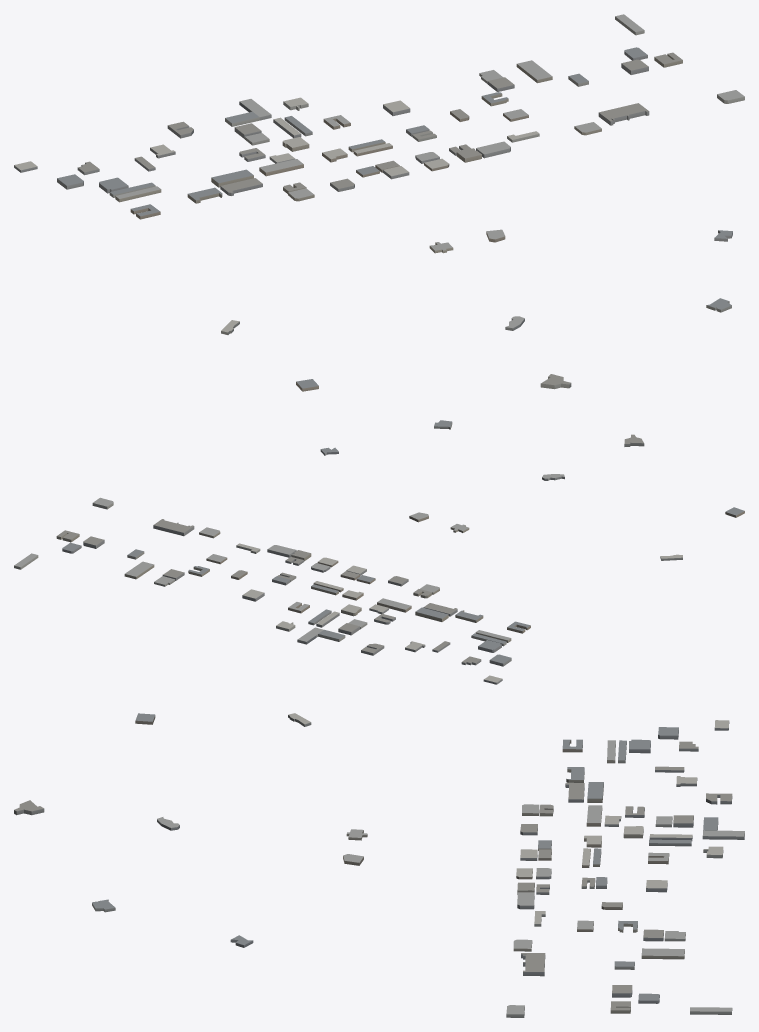
File: bld_16_7.fbx
3 renders of one model, top to bottom at view 1: azimuth 30°, elevation 25°; view 2: azimuth 150°, elevation 25°; view 3: azimuth 270°, elevation 25°, orthographic. The views are drawn at different scales.
Parts seen in each view (by area): view 1: bld_16_7_LOD0; view 2: bld_16_7_LOD0; view 3: bld_16_7_LOD0.
Boxes of the visible parts, x1,y1,x2,y2 form: bld_16_7_LOD0: [14, 14, 744, 391]; bld_16_7_LOD0: [14, 420, 744, 684]; bld_16_7_LOD0: [14, 713, 744, 1017].
Bounding box in the file's own units: 2050 × 13.71 × 2095.
